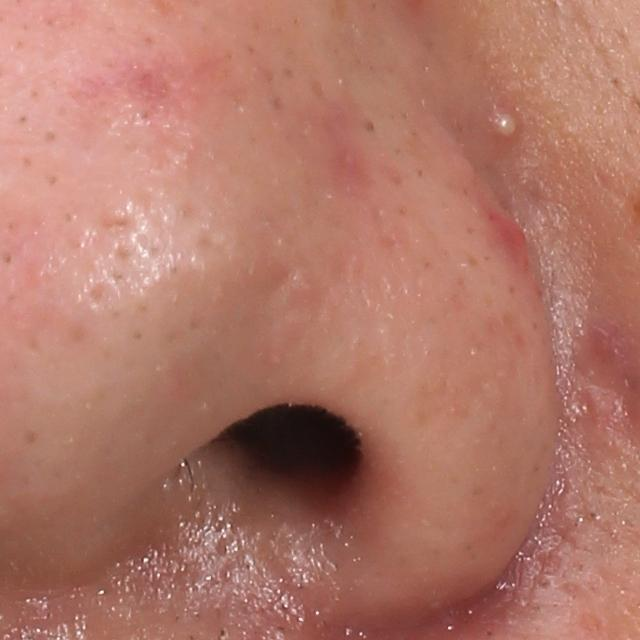pustule: (489, 107, 519, 142)
